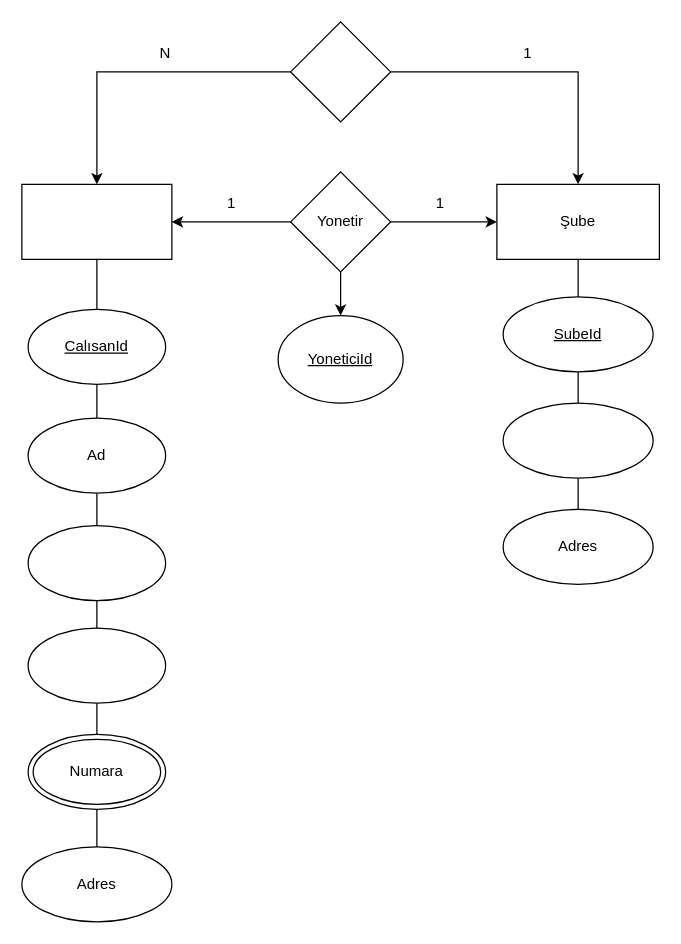
Some shapes in this 681 by 944 pixel diagram are drawn without their labels. Here are the shapes that lost their labels. From the top down, the centre of each, then its label:
(340,71): Calisir
(96,221): Çalışan
(577,440): SubeAdi
(96,562): Soyad
(96,665): Maas
